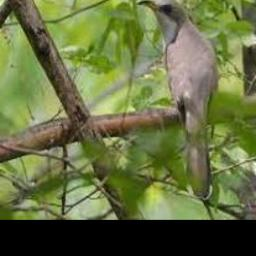Cuckoo: (137, 0, 219, 199)
